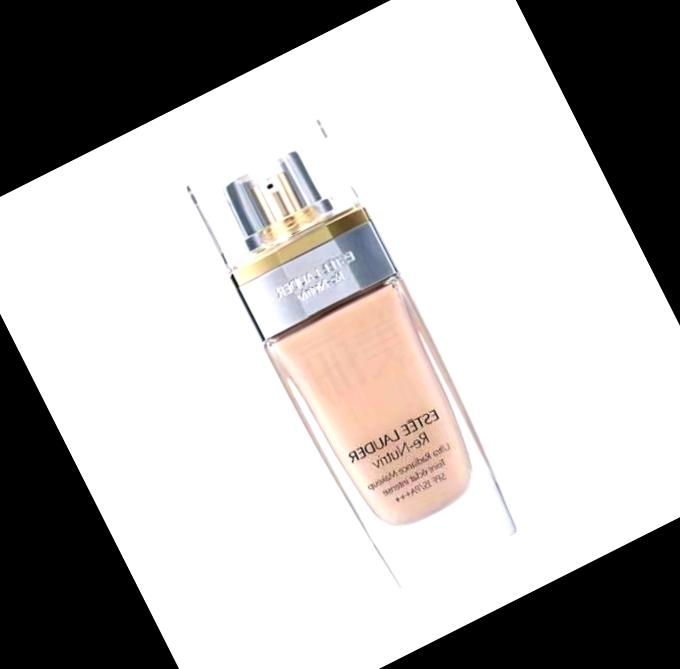cosmetic: (186, 117, 527, 597)
